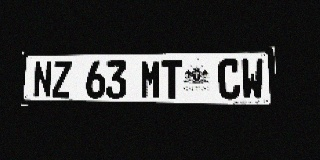3: (106, 60, 126, 99)
6: (86, 60, 106, 98)
C: (218, 59, 241, 100)
M: (140, 60, 161, 99)
N: (33, 61, 52, 98)
T: (162, 59, 183, 99)
W: (241, 58, 264, 100)
Z: (52, 61, 71, 98)
